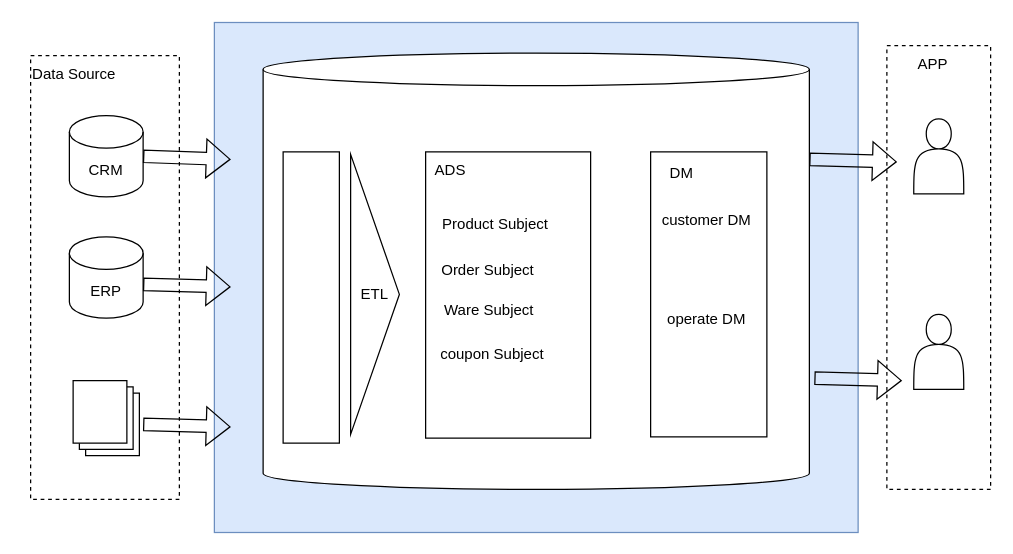
Some shapes in this 1013 by 554 pixel diagram are drawn without their labels. Here are the shapes that lost their labels. From the top down, the box of each, then its label:
(282, 151, 339, 443): landing Staging Area
(72, 379, 139, 456): Flie
